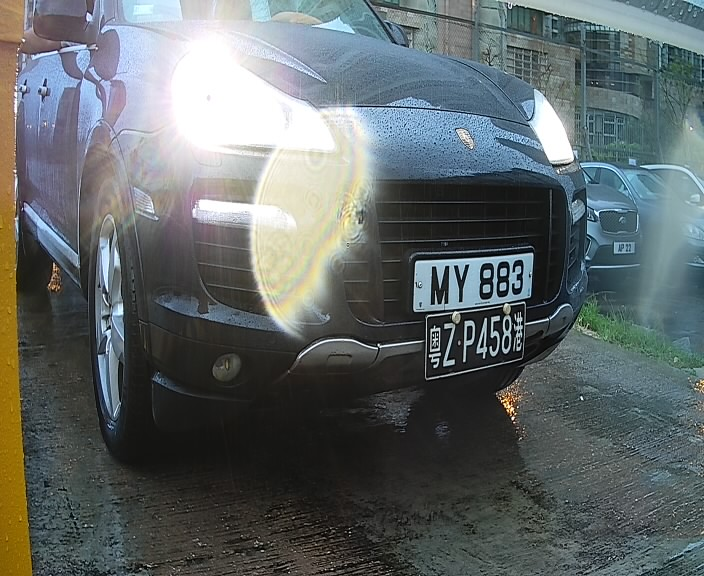Car: (22, 0, 630, 472)
License Plate: (400, 242, 546, 332)
